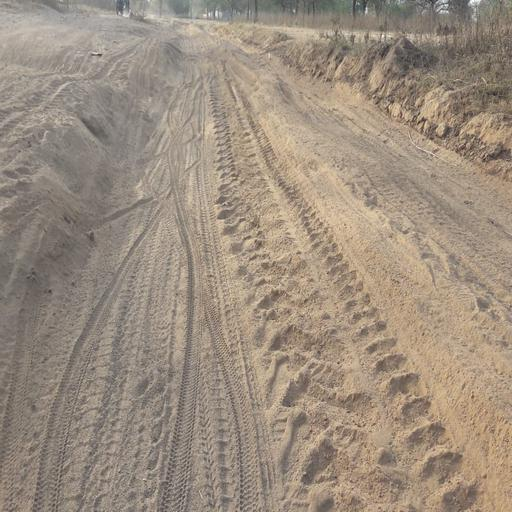vehicle_track: (0, 40, 512, 512)
